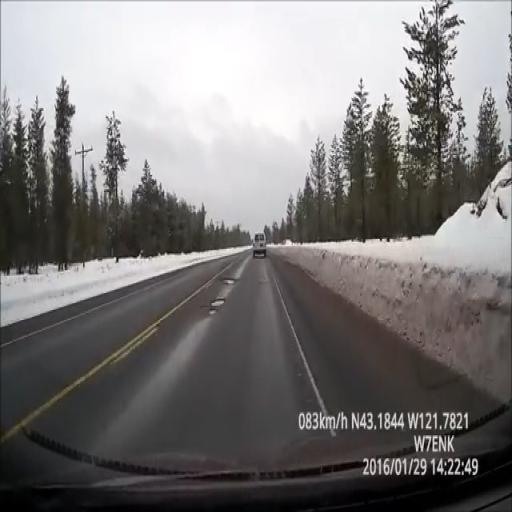Potholes: (210, 297, 224, 309), (223, 279, 235, 284)
